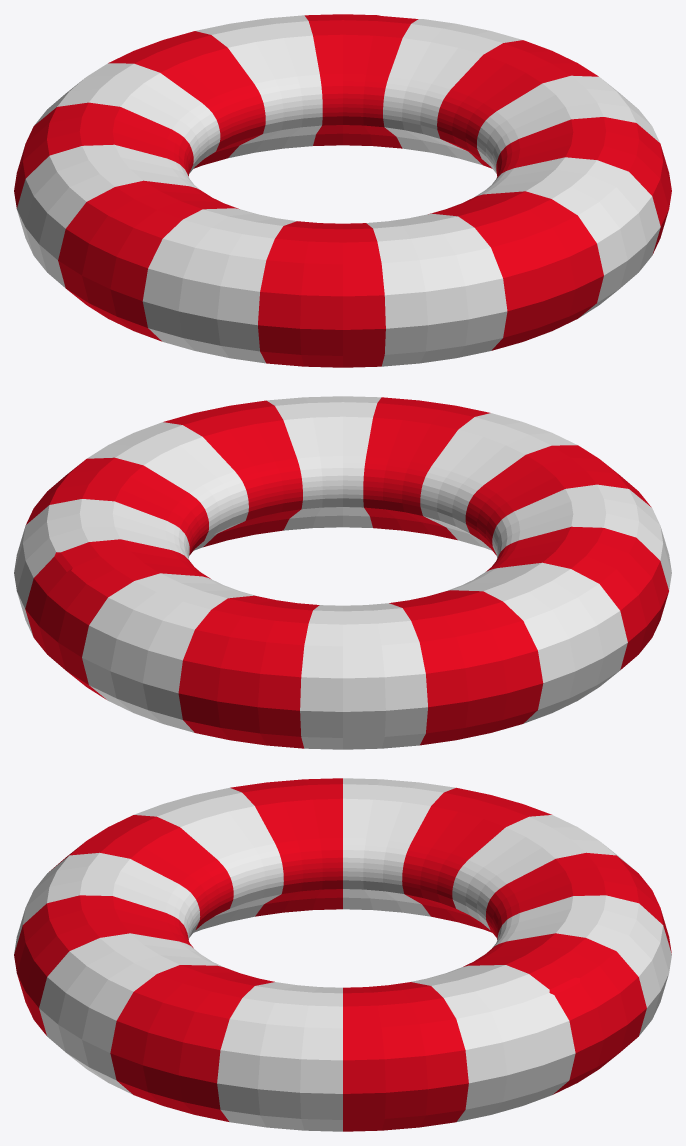
Rendered from swimming tube.glb.
The picture shows the model from 3 angles, top to bottom: view 1: azimuth 30°, elevation 25°; view 2: azimuth 150°, elevation 25°; view 3: azimuth 270°, elevation 25°; orthographic projection.
Visible parts, largest first — view 1: Torus; view 2: Torus; view 3: Torus.
Boxes of the visible parts, <box> form: Torus: <box>14,14,671,367</box>; Torus: <box>14,396,671,749</box>; Torus: <box>14,778,671,1131</box>.
Bounding box in the file's own units: 2.5 × 0.5 × 2.5.
